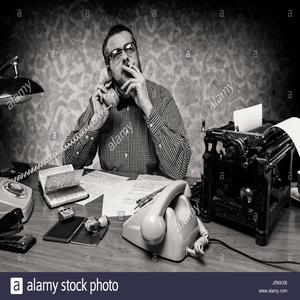cigarette: (127, 63, 137, 69)
